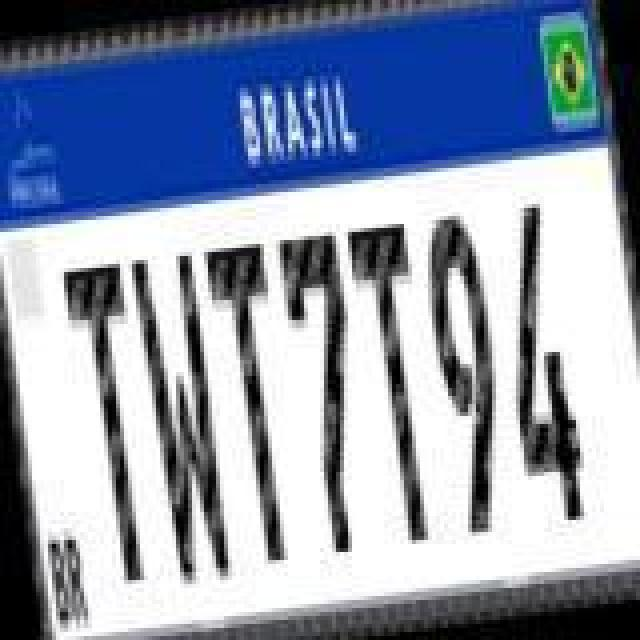4: (482, 194, 590, 526)
7: (274, 226, 382, 558)
9: (410, 204, 518, 540)
T: (202, 238, 310, 570), (60, 256, 164, 592), (348, 218, 452, 550)
W: (128, 246, 240, 586)
